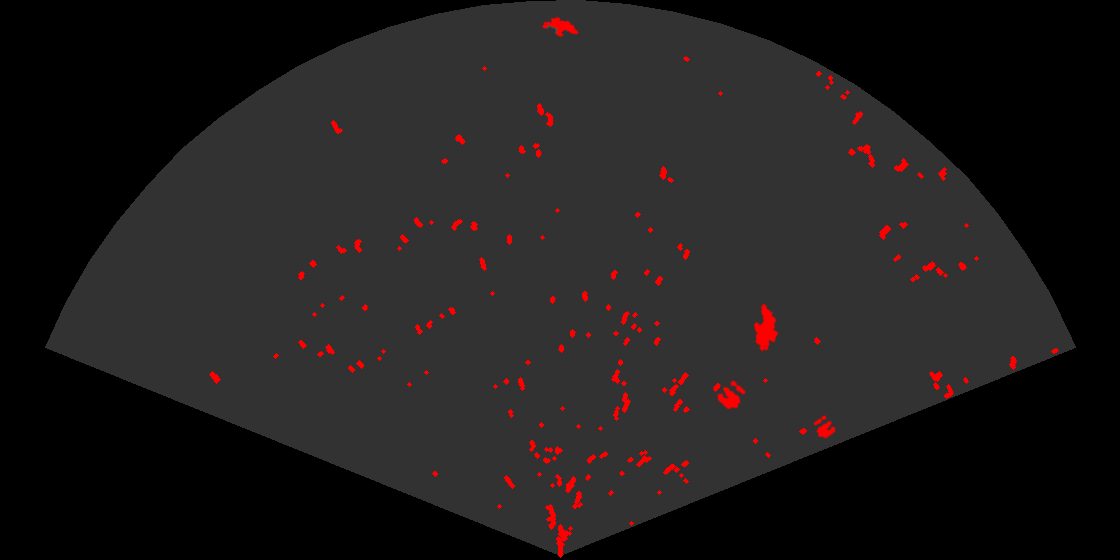AUV: (752, 302, 780, 353), (540, 15, 581, 39)
ball: (716, 379, 747, 411), (812, 413, 837, 440)
